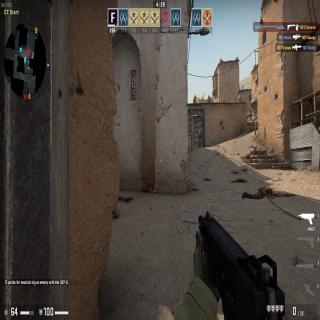CT-Body: (198, 130, 202, 148)
CT-Head: (199, 130, 200, 134)
